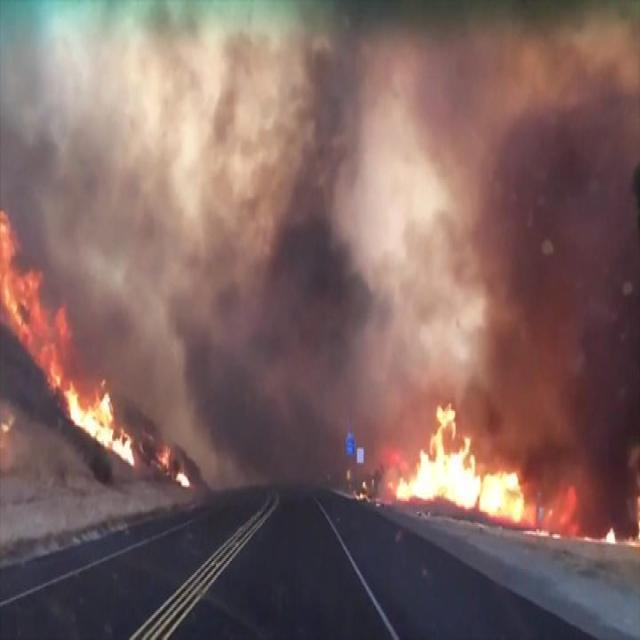Fire: (0, 205, 197, 485), (396, 404, 600, 538)
Smoke: (0, 0, 640, 529)
